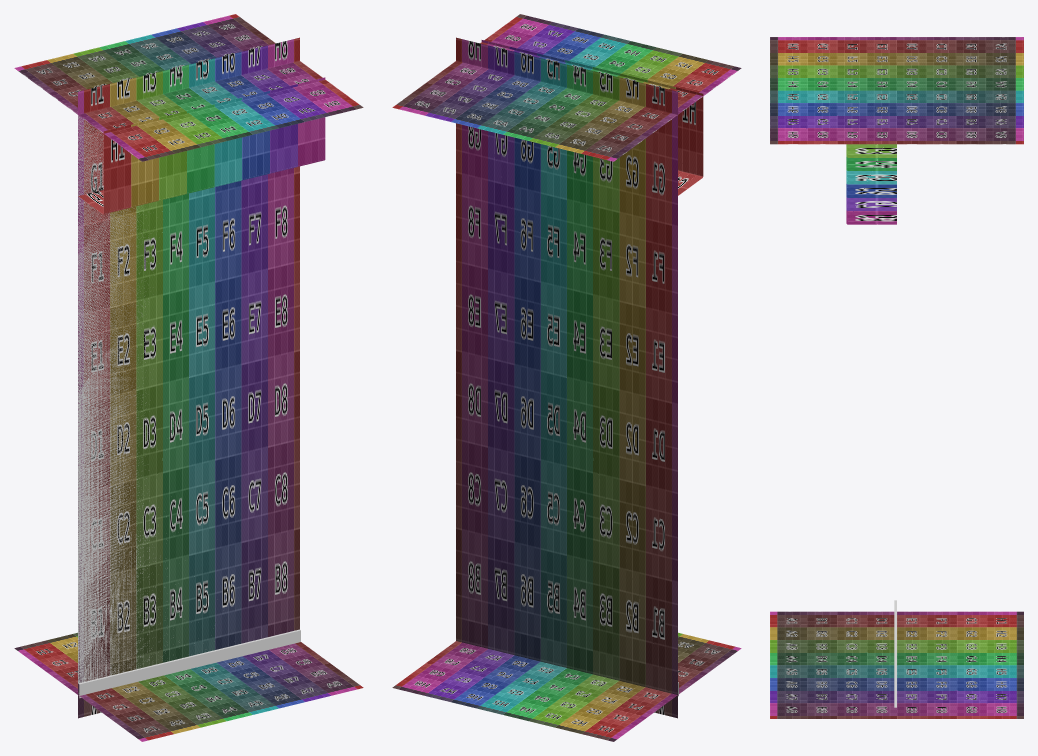
Rendered from units.glb.
3 renders of one model, left to right at view 1: azimuth 30°, elevation 25°; view 2: azimuth 150°, elevation 25°; view 3: azimuth 270°, elevation 25°, orthographic.
Visible parts, largest first — view 1: wall.001, __ROOM_WALL__wall, __X_CEILLING__, __X_FLOOR__, __BEAM__hari-300, __BASEBOARD__habaki-300; view 2: wall.001, __X_CEILLING__, __X_FLOOR__, __BEAM__hari-300; view 3: __X_CEILLING__, __X_FLOOR__, __BEAM__hari-300.
Boxes of the visible parts, x1,y1,x2,y2 form: wall.001: (78,37,299,718); __ROOM_WALL__wall: (78,115,300,688); __X_CEILLING__: (14,14,363,161); __X_FLOOR__: (14,632,363,741); __BEAM__hari-300: (78,77,325,214); __BASEBOARD__habaki-300: (79,630,300,698); wall.001: (456,37,677,718); __X_CEILLING__: (392,14,741,161); __X_FLOOR__: (392,632,741,741); __BEAM__hari-300: (481,40,703,195); __X_CEILLING__: (770,37,1023,144); __X_FLOOR__: (770,611,1023,718); __BEAM__hari-300: (846,144,896,224).
Size of what is drawn, in the model's own units: 1 by 2.7 by 1.
Materials: 5 (4 with a texture image).
